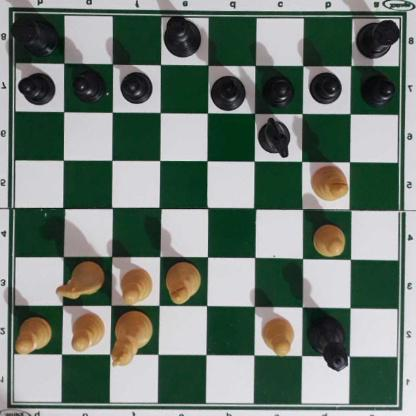black-bishop: (210, 75, 249, 112)
black-king: (163, 15, 204, 58)
black-knight: (258, 115, 293, 158)
black-pawn: (20, 69, 56, 105), (72, 68, 106, 102), (121, 68, 154, 103), (362, 71, 396, 104), (311, 70, 343, 104), (263, 72, 295, 106)
black-queen: (308, 313, 351, 372)
black-rook: (356, 15, 403, 58), (12, 14, 58, 55)
white-bishop: (165, 261, 202, 306), (310, 164, 351, 202)
white-king: (111, 310, 153, 367)
white-knight: (55, 260, 103, 301)
white-pawn: (69, 312, 106, 354), (16, 315, 53, 353), (119, 265, 155, 302), (262, 316, 297, 354), (313, 224, 347, 256)
